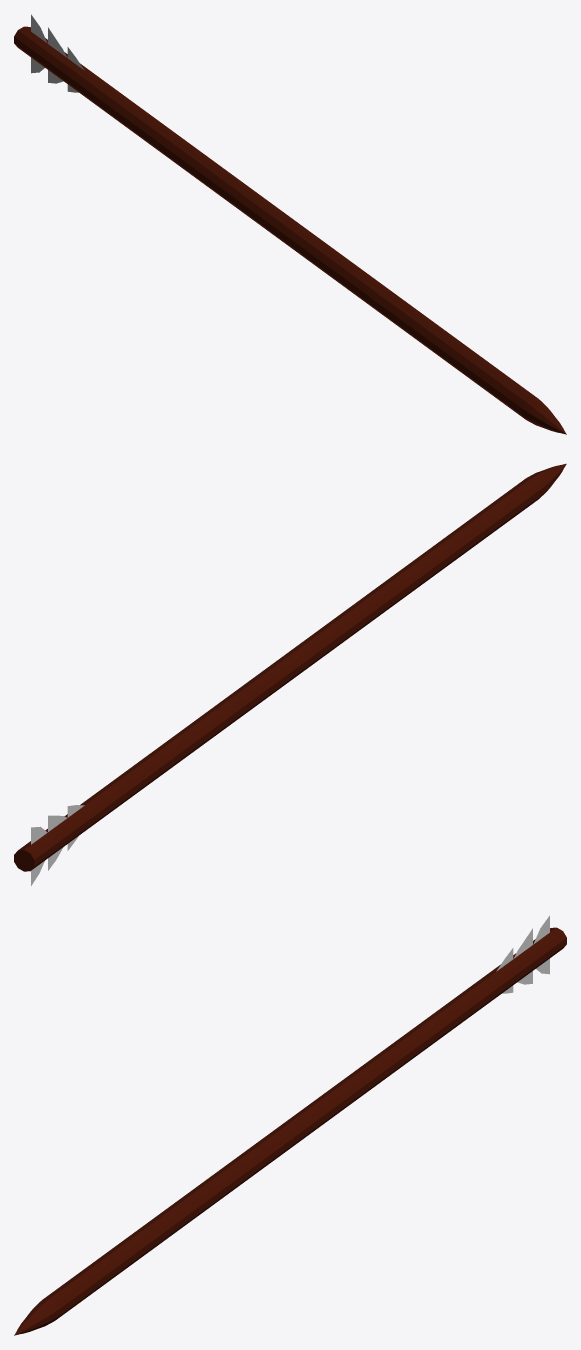
Rendered from SM_Arrows_001.fbx.
The picture shows the model from 3 angles, top to bottom: view 1: azimuth 30°, elevation 25°; view 2: azimuth 150°, elevation 25°; view 3: azimuth 330°, elevation 25°; orthographic projection.
Parts seen in each view (by area): view 1: Arrow; view 2: Arrow; view 3: Arrow.
Boxes of the visible parts, bbox=[...] form: Arrow: bbox=[14, 14, 566, 434]; Arrow: bbox=[14, 463, 566, 885]; Arrow: bbox=[14, 915, 566, 1335].
Bounding box in the file's own units: 0.66 × 1.8 × 30.
